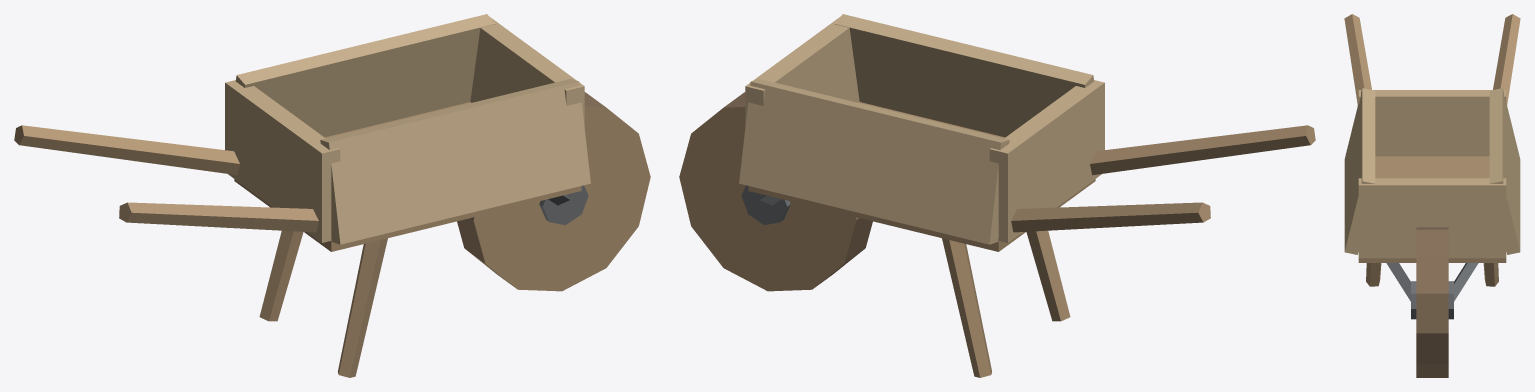
The model's file is wheelbarrow.glb.
3 views of the same model, side by side, from view 1: azimuth 30°, elevation 25°; view 2: azimuth 150°, elevation 25°; view 3: azimuth 270°, elevation 25° (orthographic). The views are drawn at different scales.
Visible parts, largest first — view 1: wheelbarrow; view 2: wheelbarrow; view 3: wheelbarrow.
Part boxes in pixels (x1,y1,x2,y2): wheelbarrow: (14,14,650,377); wheelbarrow: (679,14,1315,377); wheelbarrow: (1344,14,1520,377).
Size of the model in its own units: 1.87 by 0.7679 by 0.656.
